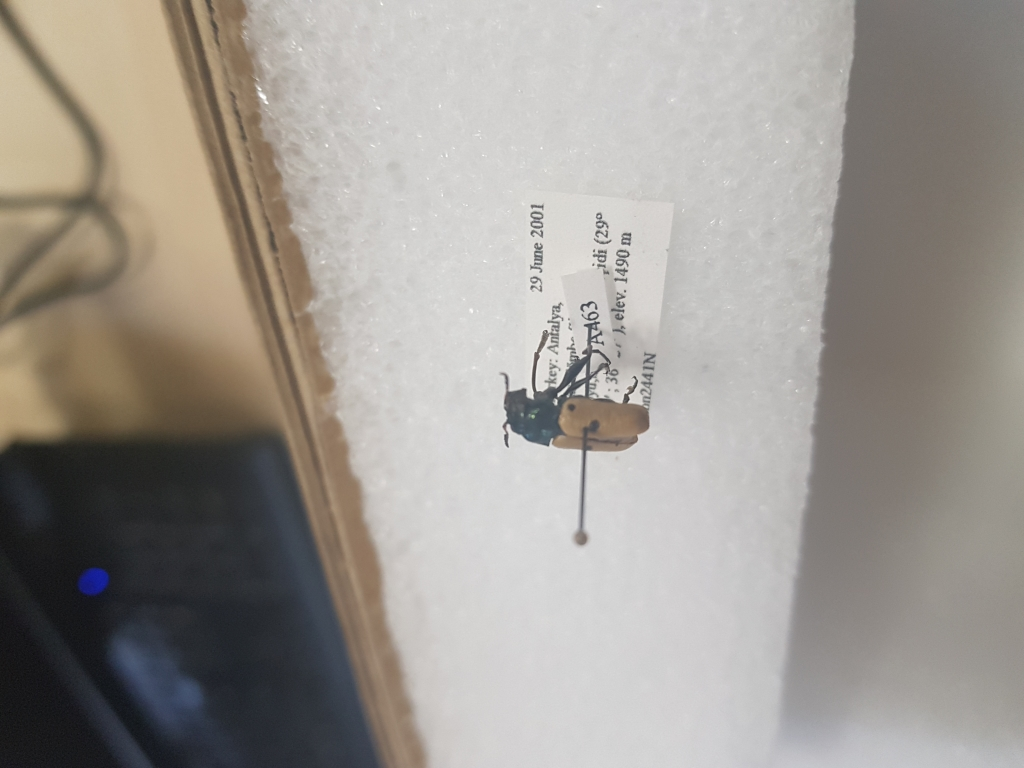Labidostomis_maculipennis: (499, 327, 661, 460)
